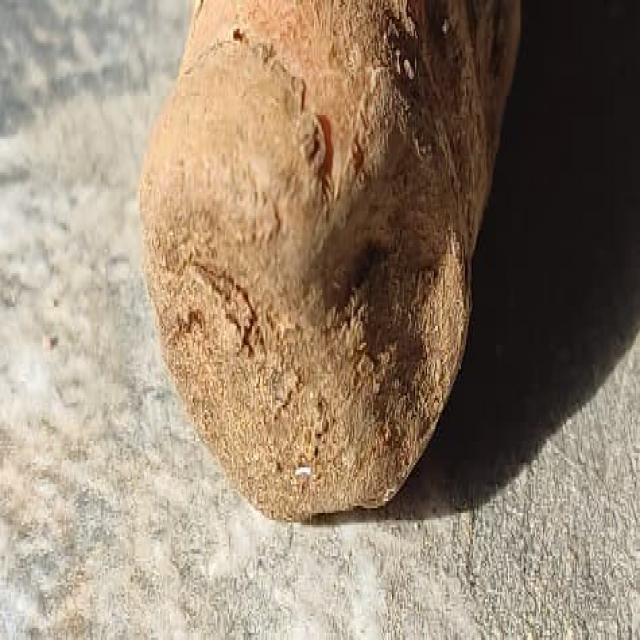ginger: (144, 1, 506, 498)
